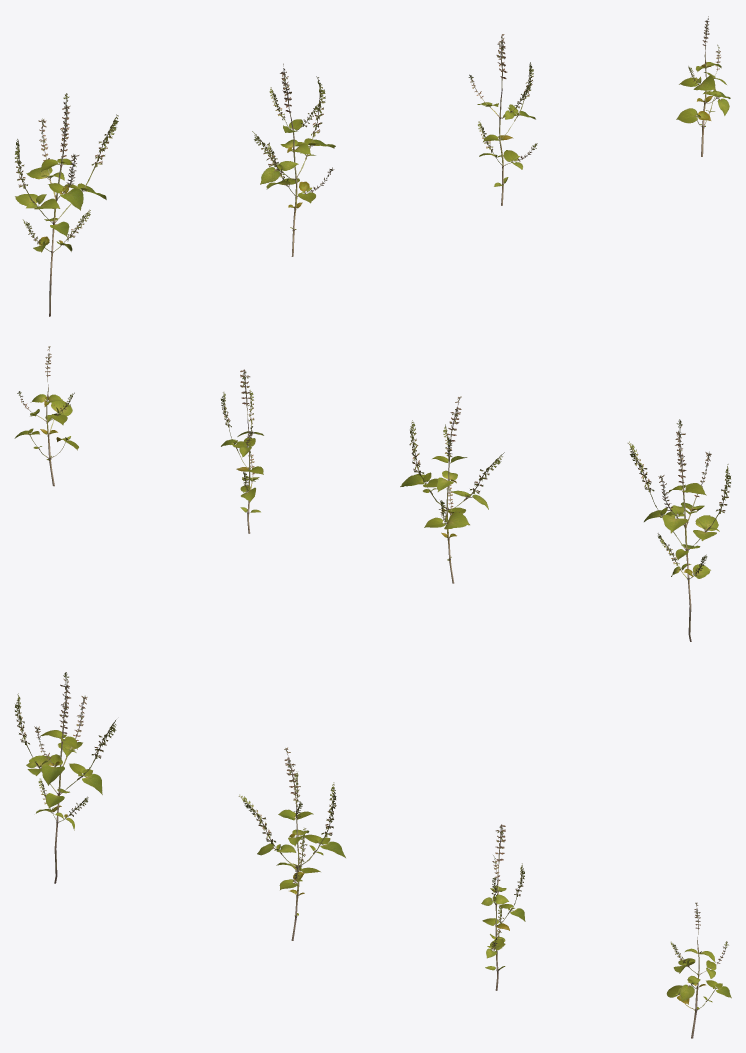
Rendered from shrub_03.glb.
3 renders of one model, top to bottom at view 1: azimuth 30°, elevation 25°; view 2: azimuth 150°, elevation 25°; view 3: azimuth 330°, elevation 25°, orthographic. The views are drawn at different scales.
Visible parts, largest first — view 1: shrub_03_a, shrub_03_b, shrub_03_c, shrub_03_d; view 2: shrub_03_a, shrub_03_b, shrub_03_c, shrub_03_d; view 3: shrub_03_a, shrub_03_b, shrub_03_d, shrub_03_c.
Part boxes in pixels (box(x1,y1,x2,y2)): shrub_03_a: box(15, 93, 118, 316); shrub_03_b: box(252, 63, 335, 256); shrub_03_c: box(468, 34, 537, 205); shrub_03_d: box(676, 16, 730, 156); shrub_03_a: box(627, 419, 730, 641); shrub_03_b: box(400, 396, 504, 583); shrub_03_c: box(221, 369, 263, 533); shrub_03_d: box(14, 346, 78, 486); shrub_03_a: box(15, 672, 116, 883); shrub_03_b: box(238, 747, 345, 940); shrub_03_d: box(666, 902, 731, 1038); shrub_03_c: box(481, 824, 525, 990).
Bounding box in the file's own units: 1.37 × 0.4028 × 0.1512.
Materials: 1 (1 with a texture image).
